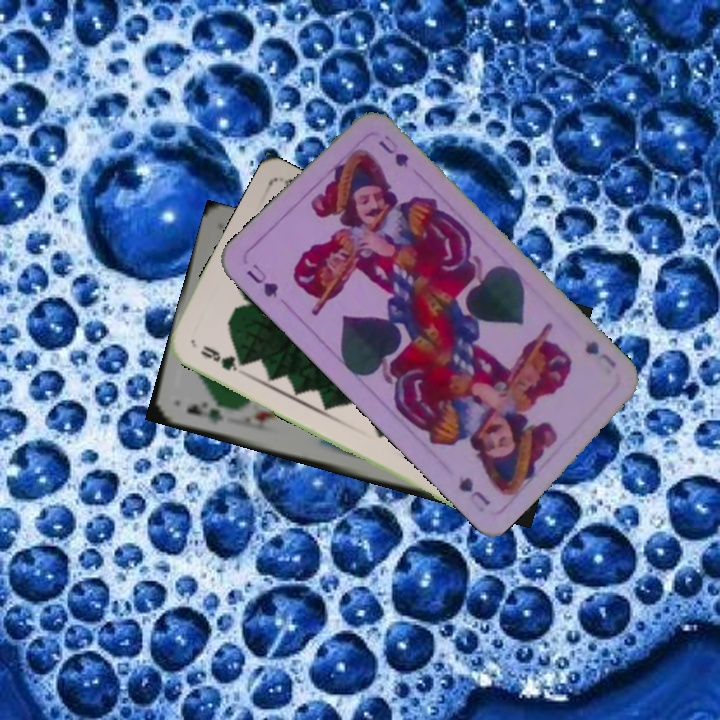G9: (195, 341, 248, 374)
GK: (183, 399, 226, 427)
GU: (242, 260, 281, 301), (580, 336, 619, 370)
